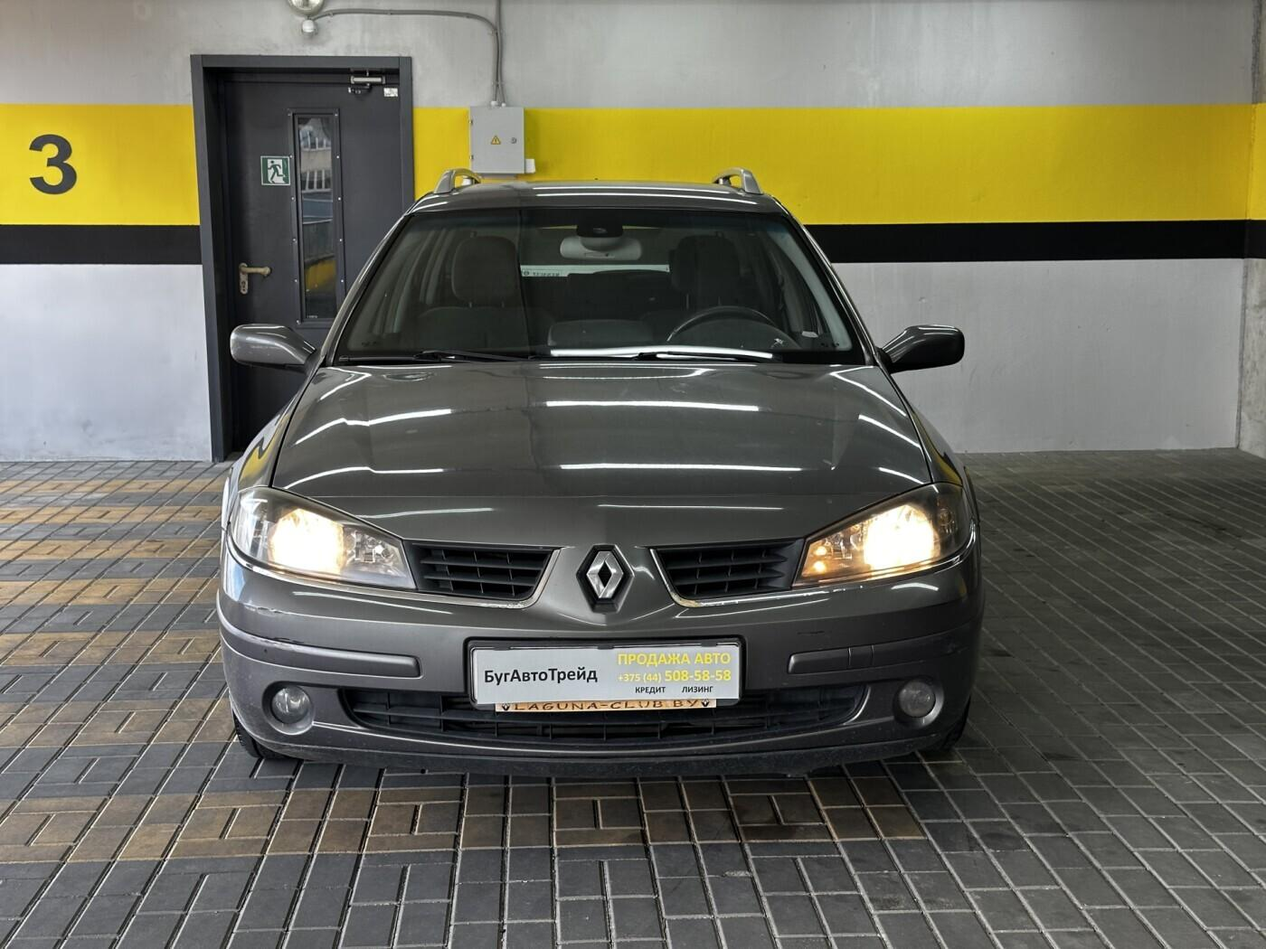Laguna_2005-2007: (203, 168, 997, 795)
